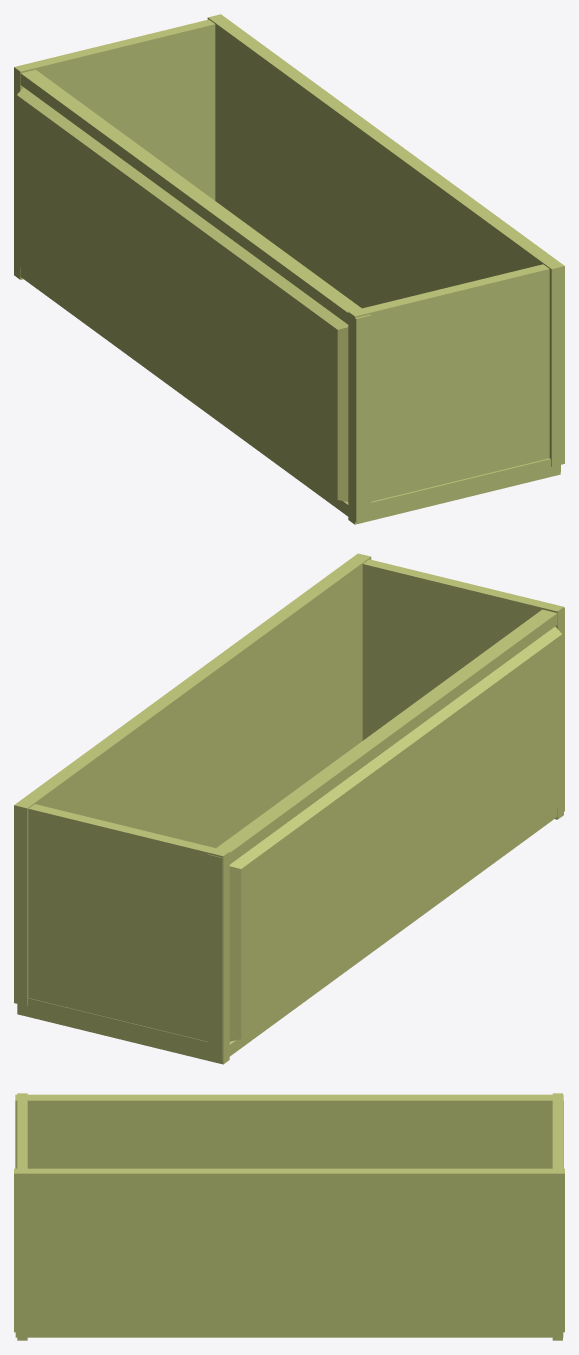
Rendered from Cupboard_01_Drawer_Lod0.fbx.
The picture shows the model from 3 angles, top to bottom: view 1: azimuth 30°, elevation 25°; view 2: azimuth 150°, elevation 25°; view 3: azimuth 270°, elevation 25°; orthographic projection. The views are drawn at different scales.
Visible parts, largest first — view 1: Cupboard_01_Drawer_Lod0; view 2: Cupboard_01_Drawer_Lod0; view 3: Cupboard_01_Drawer_Lod0.
Part boxes in pixels (x1,y1,x2,y2): Cupboard_01_Drawer_Lod0: (14,14,564,524); Cupboard_01_Drawer_Lod0: (14,553,564,1064); Cupboard_01_Drawer_Lod0: (14,1093,564,1340).
Size of the model in its own units: 38.53 by 35.75 by 106.
